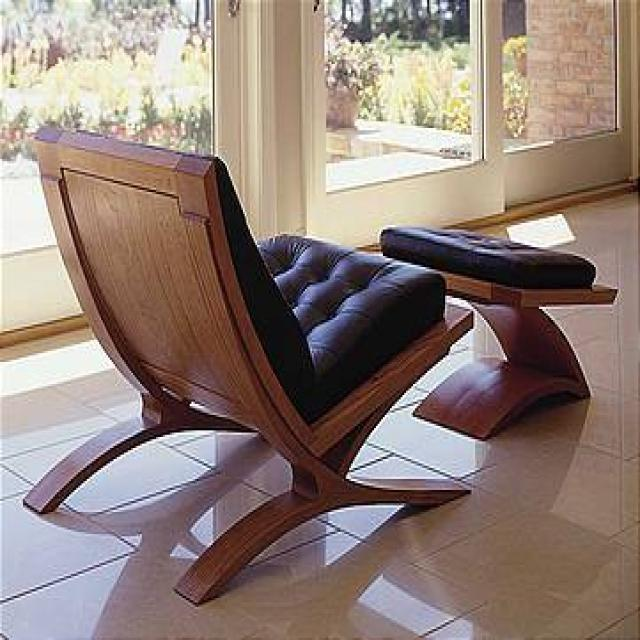chair: (22, 124, 473, 608)
